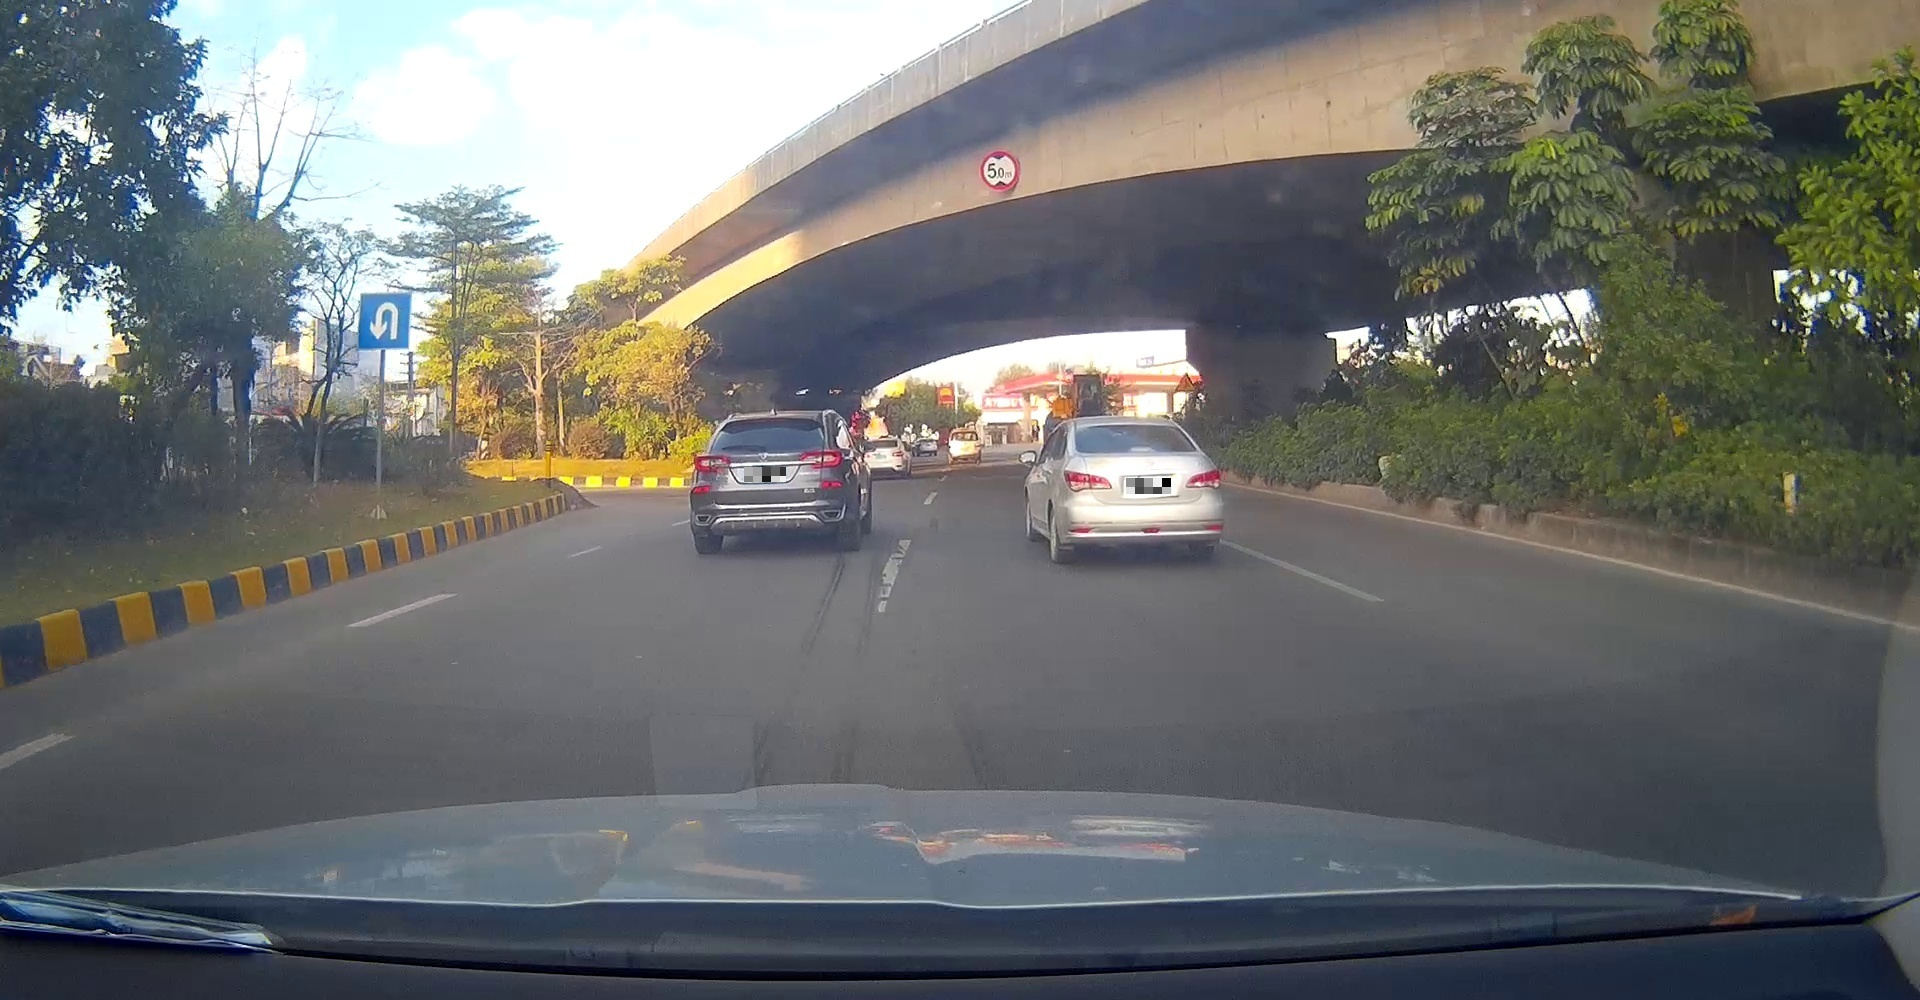L_light: (1064, 470, 1112, 492), (693, 454, 731, 473)
R_light: (800, 449, 842, 468), (1185, 470, 1222, 489)
T_light: (770, 418, 783, 423), (1125, 425, 1142, 429)
day-no: (1062, 415, 1225, 563), (690, 410, 857, 553)
plate_1: (744, 467, 786, 482)
plate_2: (1126, 478, 1171, 494)
